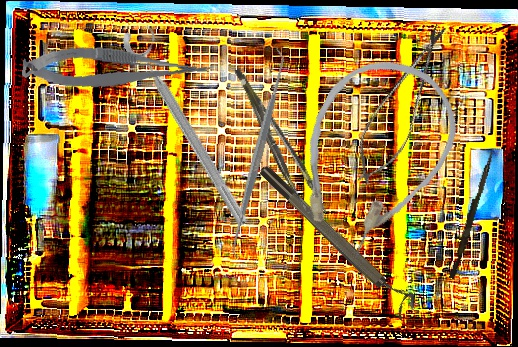Cannula: (267, 38, 477, 274)
Fixation Ring: (118, 19, 264, 230), (255, 155, 422, 322)
Micro Scissor: (343, 15, 460, 192), (21, 38, 211, 102)
Pusher: (448, 146, 496, 281)
Spatula Surgical: (218, 45, 298, 261)
Tissue Forceps: (234, 59, 327, 224)
